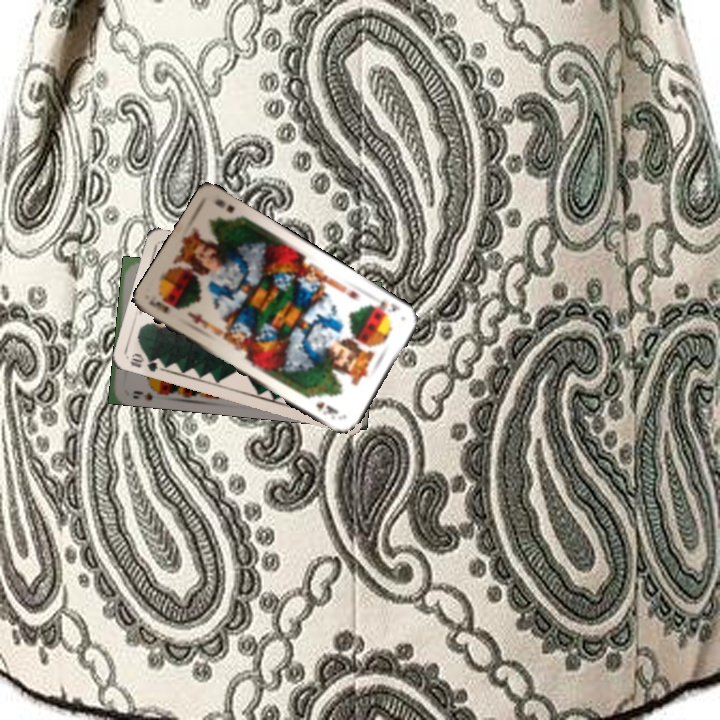G10: (126, 349, 167, 374)
S9: (129, 383, 164, 403)
SK: (367, 296, 403, 318), (145, 296, 173, 316)
